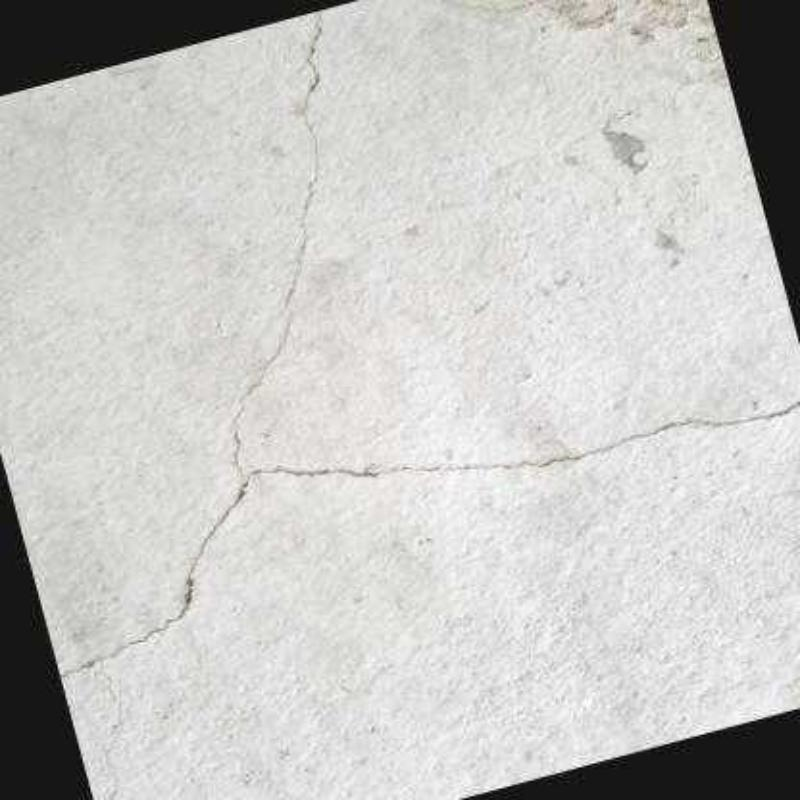pothole: (58, 7, 800, 680)
